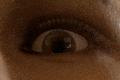eye: (43, 32, 75, 54)
